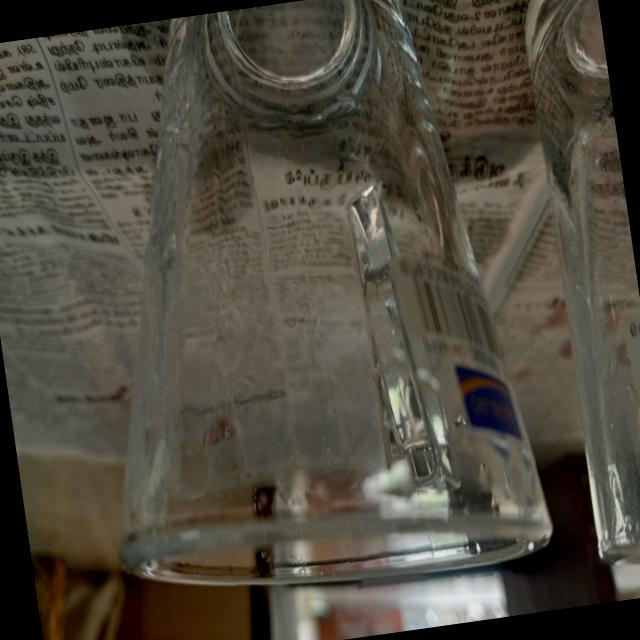glass-VX4N: (45, 0, 556, 611), (515, 0, 640, 571)
